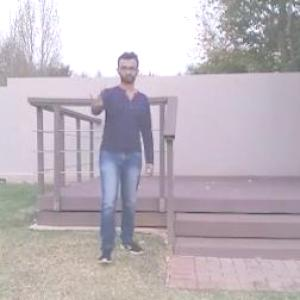takeoff-hand: (82, 80, 110, 116)
